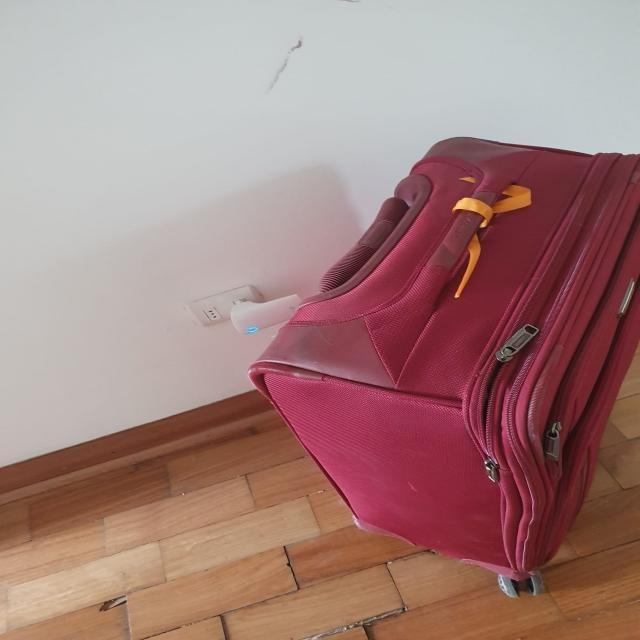Suitcase: (237, 132, 640, 596)
